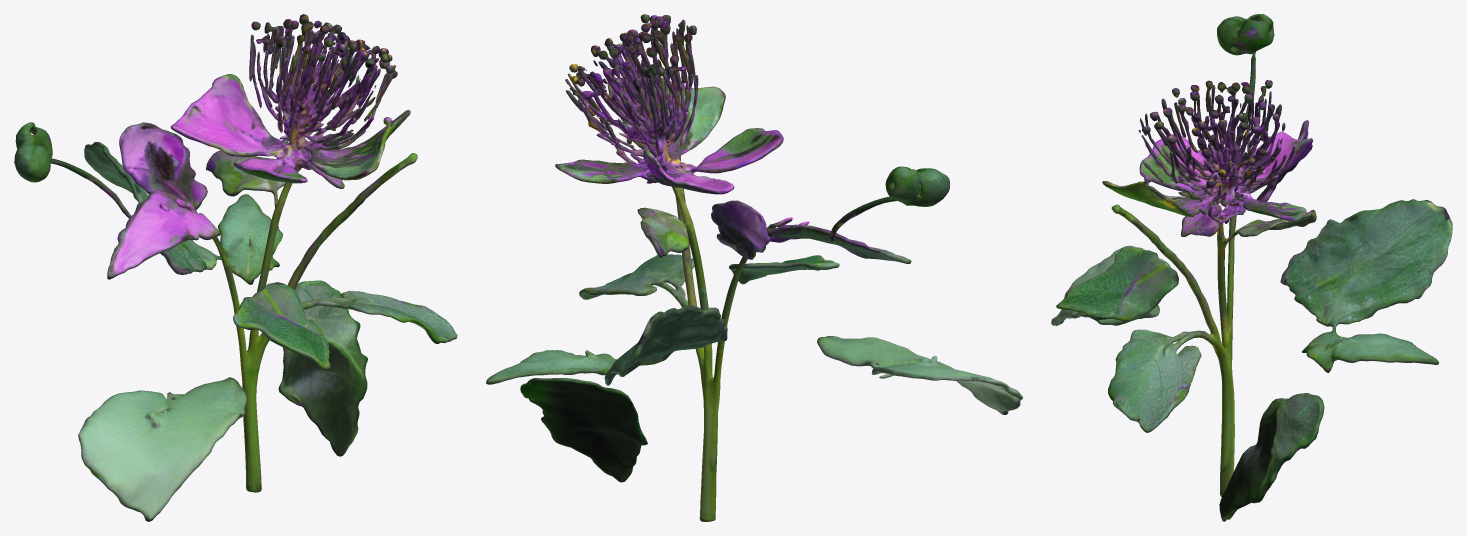
File: herb0036_dup.gltf
3 views of the same model, side by side, from view 1: azimuth 30°, elevation 25°; view 2: azimuth 150°, elevation 25°; view 3: azimuth 270°, elevation 25° (orthographic). The views are drawn at different scales.
Parts seen in each view (by area): view 1: Mesh_0.013; view 2: Mesh_0.013; view 3: Mesh_0.013.
Part boxes in pixels (<box>): Mesh_0.013: <box>14,14,457,521</box>; Mesh_0.013: <box>486,14,1022,521</box>; Mesh_0.013: <box>1051,14,1452,521</box>.
Size of the model in its own units: 1.8 by 2 by 1.66.
1 material, 1 textured.
